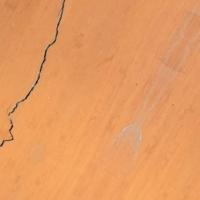crack: (0, 0, 82, 183)
